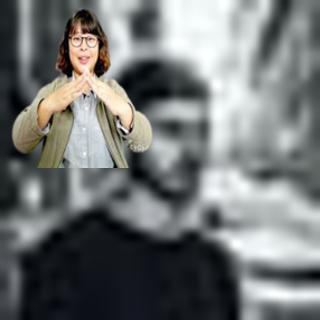HOME: (47, 68, 126, 116)
